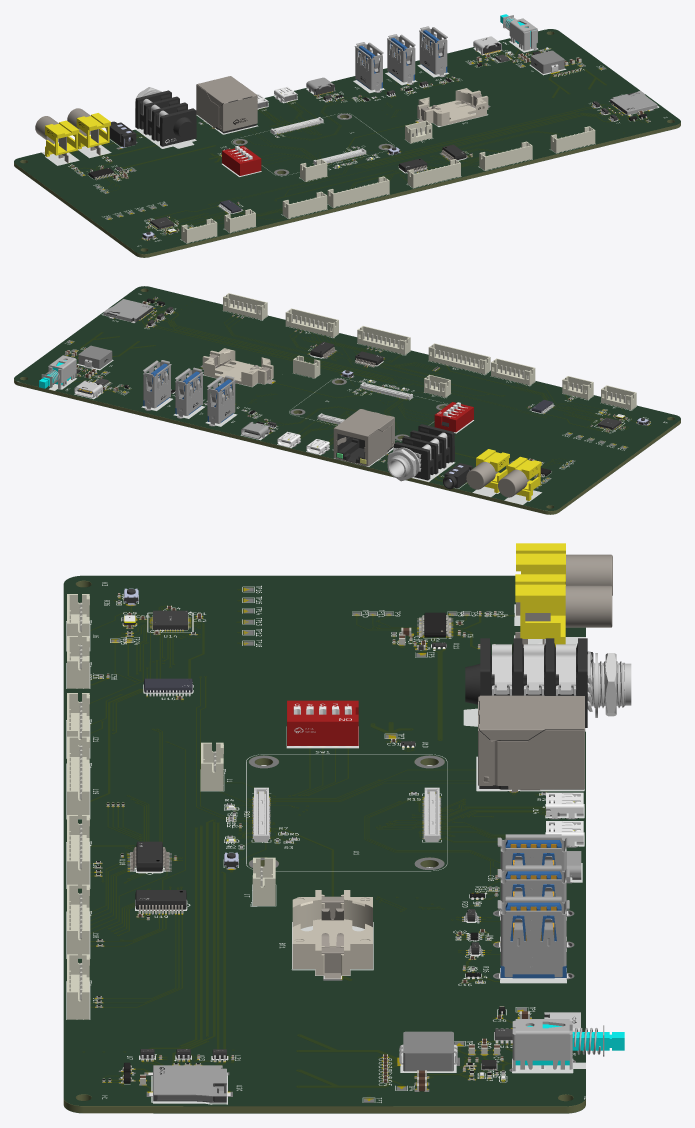
The model's file is mainboard.glb.
The picture shows the model from 3 angles, top to bottom: view 1: azimuth 30°, elevation 25°; view 2: azimuth 150°, elevation 25°; view 3: azimuth 270°, elevation 25°; orthographic projection. The views are drawn at different scales.
Visible parts, largest first — view 1: object 181, object 169, object 172, object 99, object 96, J4, J3, J8, J11, J10, object 146, J18 (+5 smaller); view 2: object 181, object 169, object 172, object 99, object 96, J4, J3, J10, J8, J11, J20, J18 (+6 smaller); view 3: object 181, object 169, object 172, J8, J3, object 146, object 96, J4, object 99, J10, J11, U1 (×2) (+10 smaller).
Part boxes in pixels (x1,y1,x2,y2): object 181: [14, 29, 680, 257]; object 169: [106, 36, 564, 233]; object 172: [117, 88, 488, 175]; object 99: [183, 176, 389, 243]; object 96: [150, 43, 657, 233]; J4: [35, 116, 79, 162]; J3: [67, 108, 110, 155]; J8: [419, 26, 447, 76]; J11: [387, 34, 415, 84]; J10: [354, 42, 383, 92]; object 146: [171, 14, 634, 230]; J18: [479, 141, 532, 170]; object 181: [14, 286, 680, 514]; object 169: [74, 345, 625, 489]; object 172: [202, 348, 473, 482]; object 99: [428, 343, 636, 410]; object 96: [77, 299, 624, 439]; J4: [498, 456, 541, 500]; J3: [466, 449, 509, 492]; J10: [207, 375, 235, 425]; J8: [143, 360, 171, 410]; J11: [175, 367, 203, 418]; J20: [357, 326, 410, 354]; J18: [285, 308, 338, 337]; object 181: [63, 575, 585, 1113]; object 169: [123, 617, 631, 1071]; object 172: [287, 700, 372, 975]; J8: [497, 896, 570, 978]; J3: [515, 574, 612, 647]; object 146: [129, 617, 624, 1074]; object 96: [123, 610, 581, 1102]; J4: [516, 543, 612, 615]; object 99: [67, 594, 89, 818]; J10: [497, 834, 570, 915]; J11: [497, 865, 570, 946]; U1 (×2): [253, 787, 440, 841].
Bounding box in the file's own units: 0.2501 × 0.0198 × 0.113.
